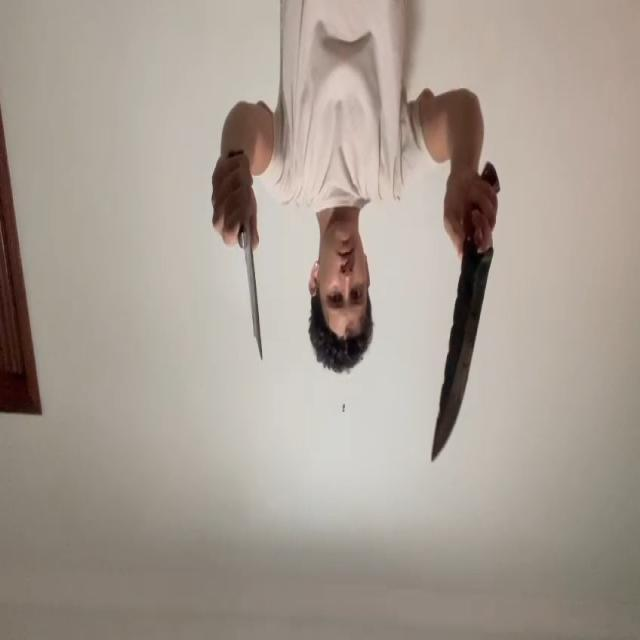knife: (431, 252, 494, 462), (246, 240, 264, 360)
